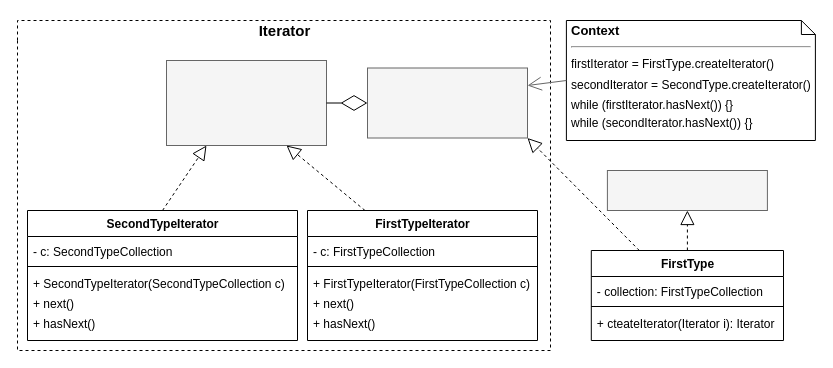
Some shapes in this 833 by 368 pixel diagram are drawn without their labels. Each missing label, with the box of its shape:
<<Interface>> FirstTypeCollection: (606, 170, 767, 210)
<<Interface>> IterableCollection + createIterator(): Iterator: (366, 67, 528, 138)
<<Interface>> Iterator + next() + hasNext(): bool: (166, 60, 326, 146)
